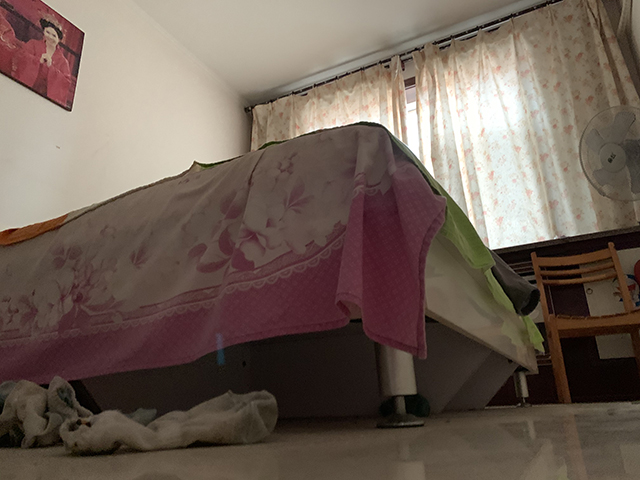bed: (1, 119, 545, 430)
socks: (1, 375, 279, 456)
stool: (528, 240, 640, 405)
